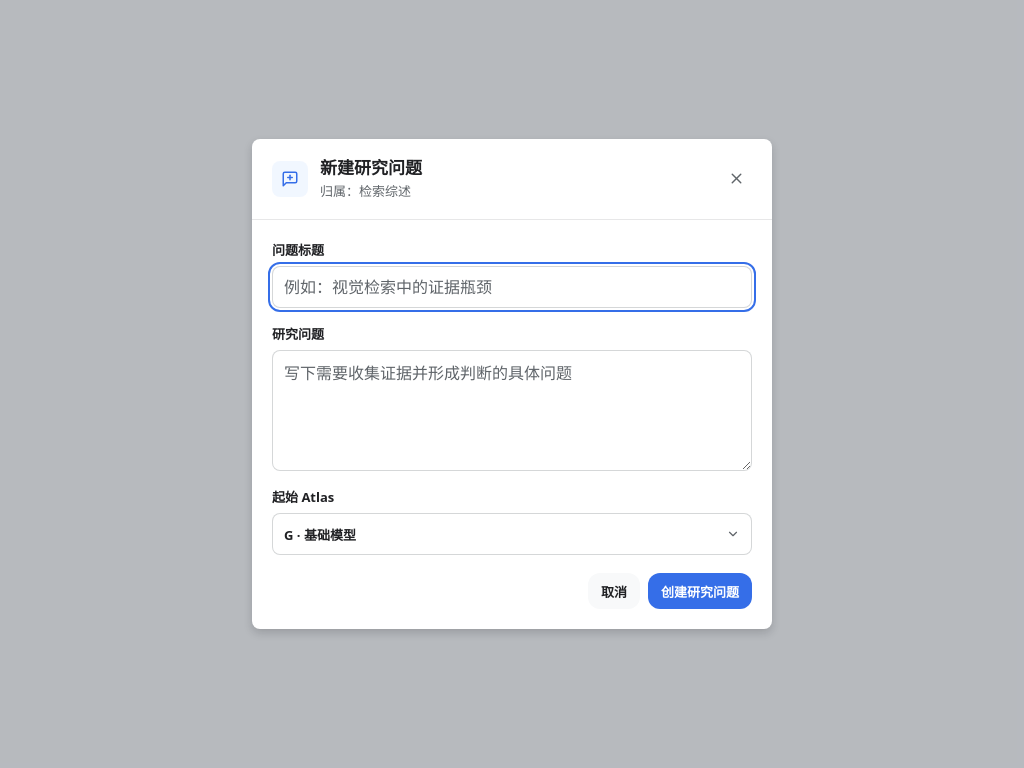
Scenario: WorkspaceCreateDialog › requires a concrete research question and preserves input after an API error
Click the button "创建研究问题": (700, 592) [648,574,752,610]
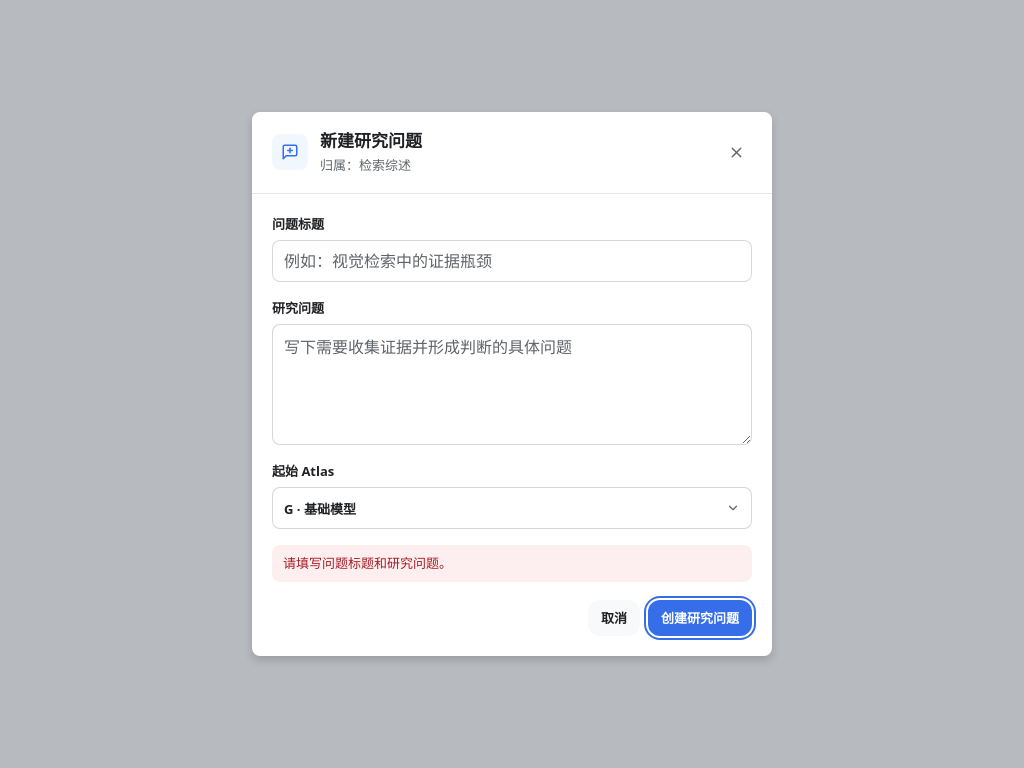
Check: the message shows "请填写问题标题和研究问题", box [283,554,452,572]
In the field labelled "问题标题": (512, 261) [272,240,752,282], type "视觉检索证据瓶颈"
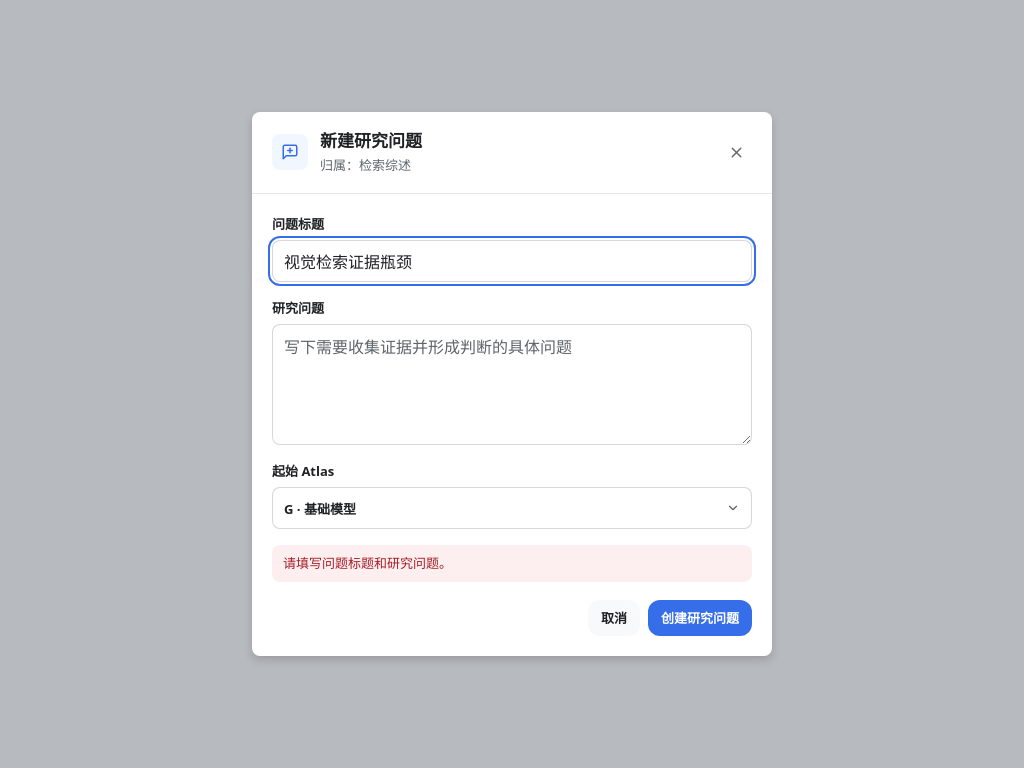
In the text box labelled "研究问题": (512, 384) [272,324,752,445], type "哪些证据能区分索引缺失与模型能力不足？"
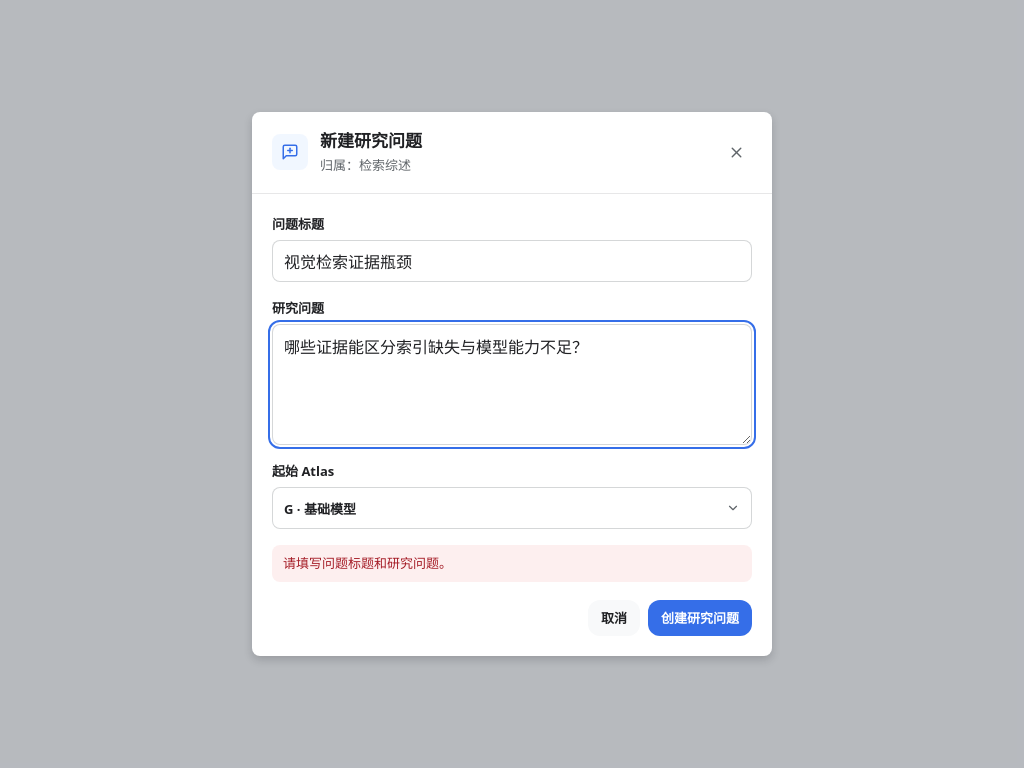
Click the dropdown named "起始 Atlas": (320, 509) [272,487,752,529]
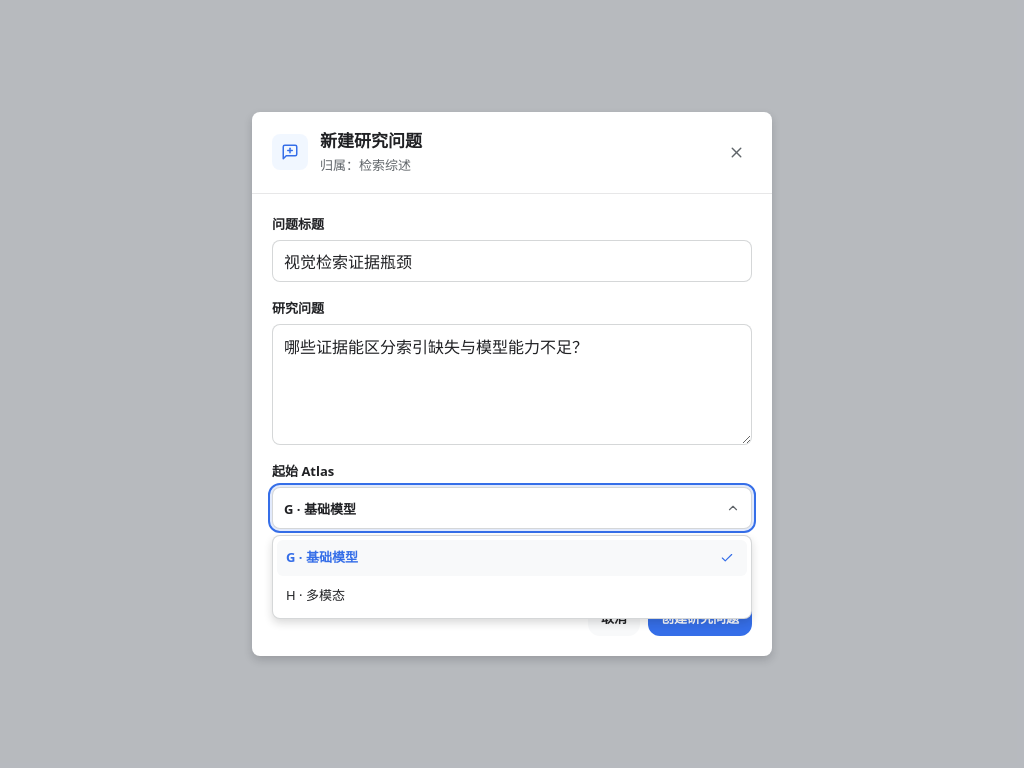
Click the option "H · 多模态": (315, 595) [277,578,747,614]
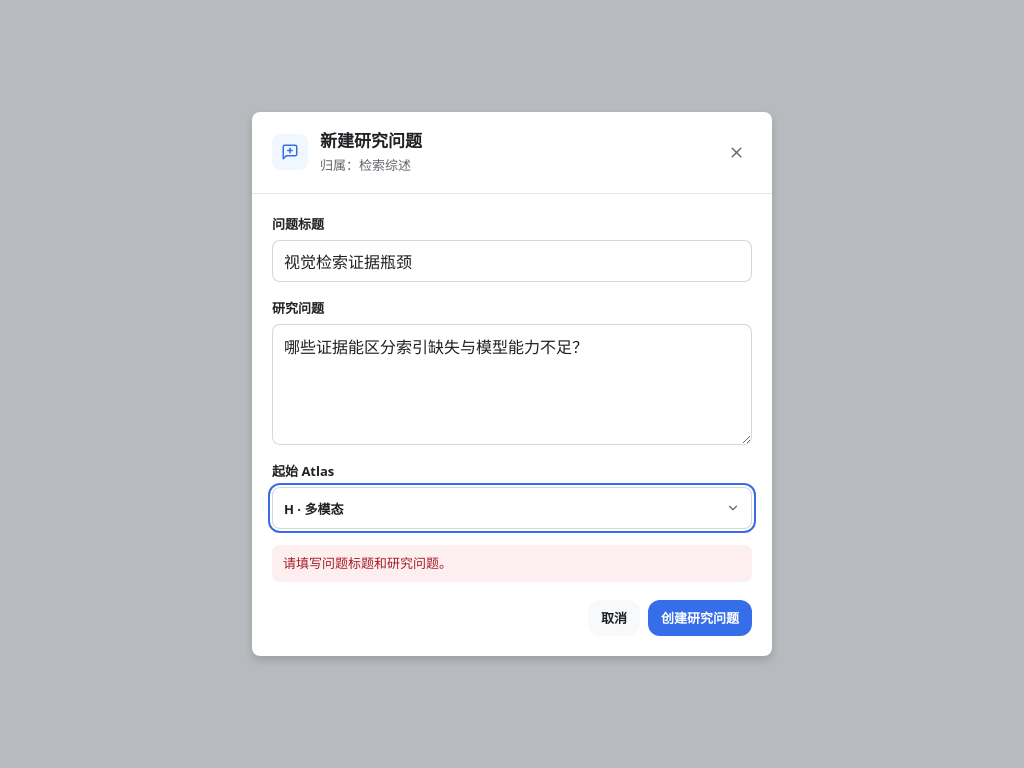
Click the button "创建研究问题": (700, 618) [648,600,752,636]
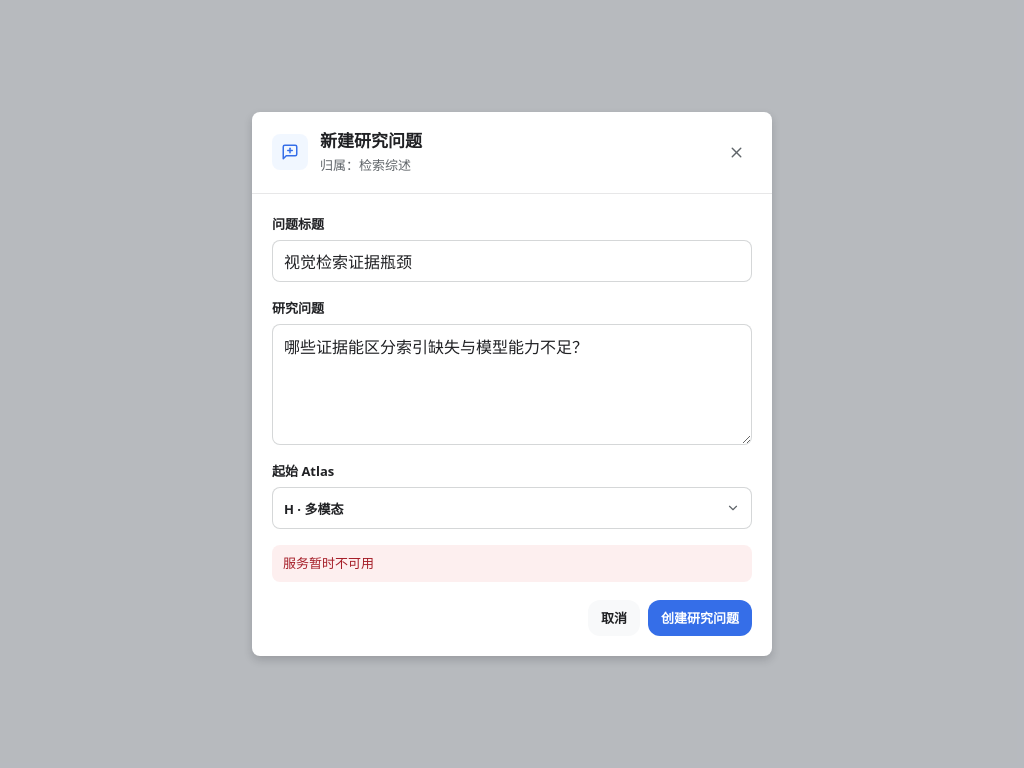
Check: the message reads "服务暂时不可用", box [283,554,374,572]
